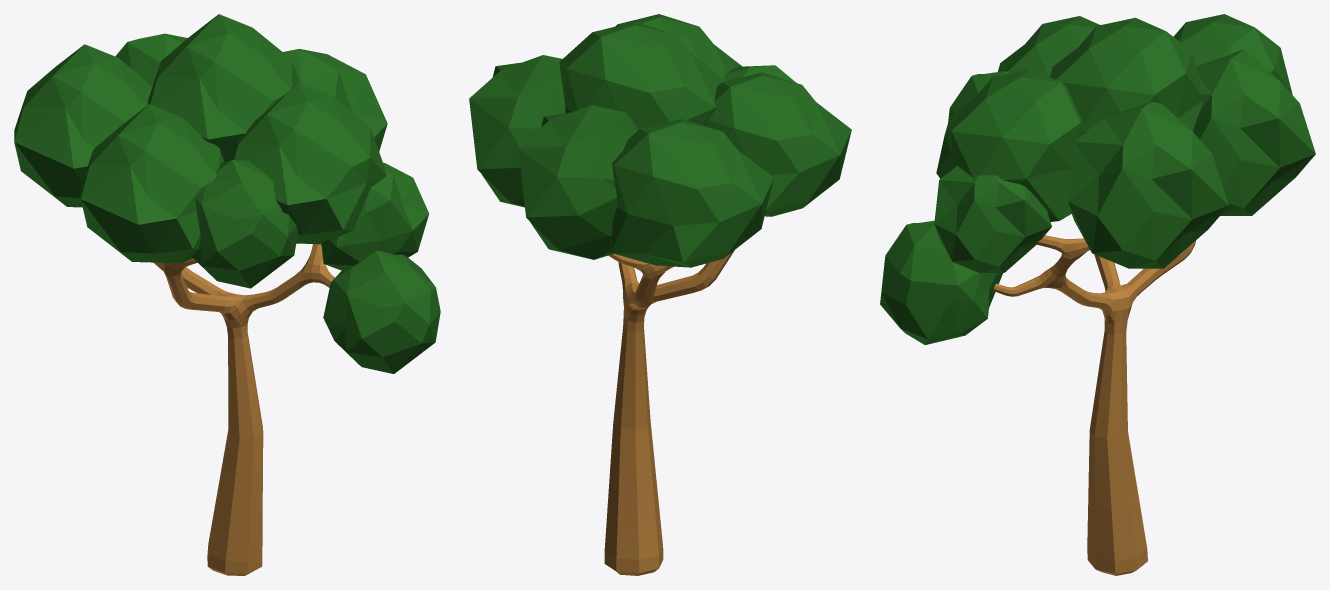
The model's file is tree.082_lev4.glb.
3 renders of one model, left to right at view 1: azimuth 30°, elevation 25°; view 2: azimuth 150°, elevation 25°; view 3: azimuth 270°, elevation 25°, orthographic. The views are drawn at different scales.
Parts seen in each view (by area): view 1: tree.082_lev4; view 2: tree.082_lev4; view 3: tree.082_lev4.
Boxes of the visible parts, bbox=[...] form: tree.082_lev4: bbox=[14, 14, 440, 575]; tree.082_lev4: bbox=[469, 14, 851, 575]; tree.082_lev4: bbox=[880, 14, 1315, 575].
Bounding box in the file's own units: 1.73 × 2.76 × 2.01.
